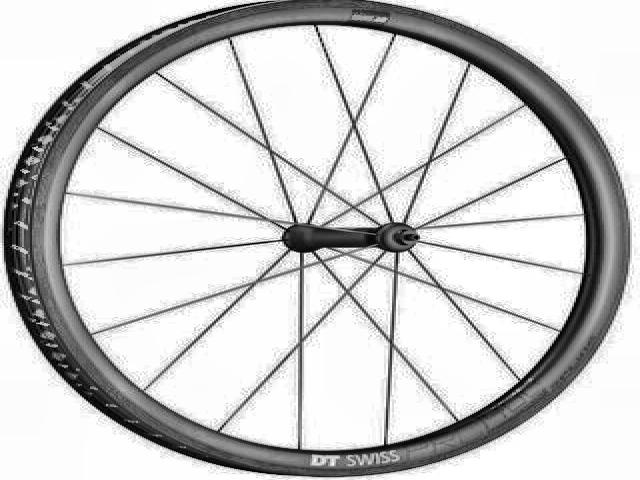wheel: (8, 1, 634, 476)
